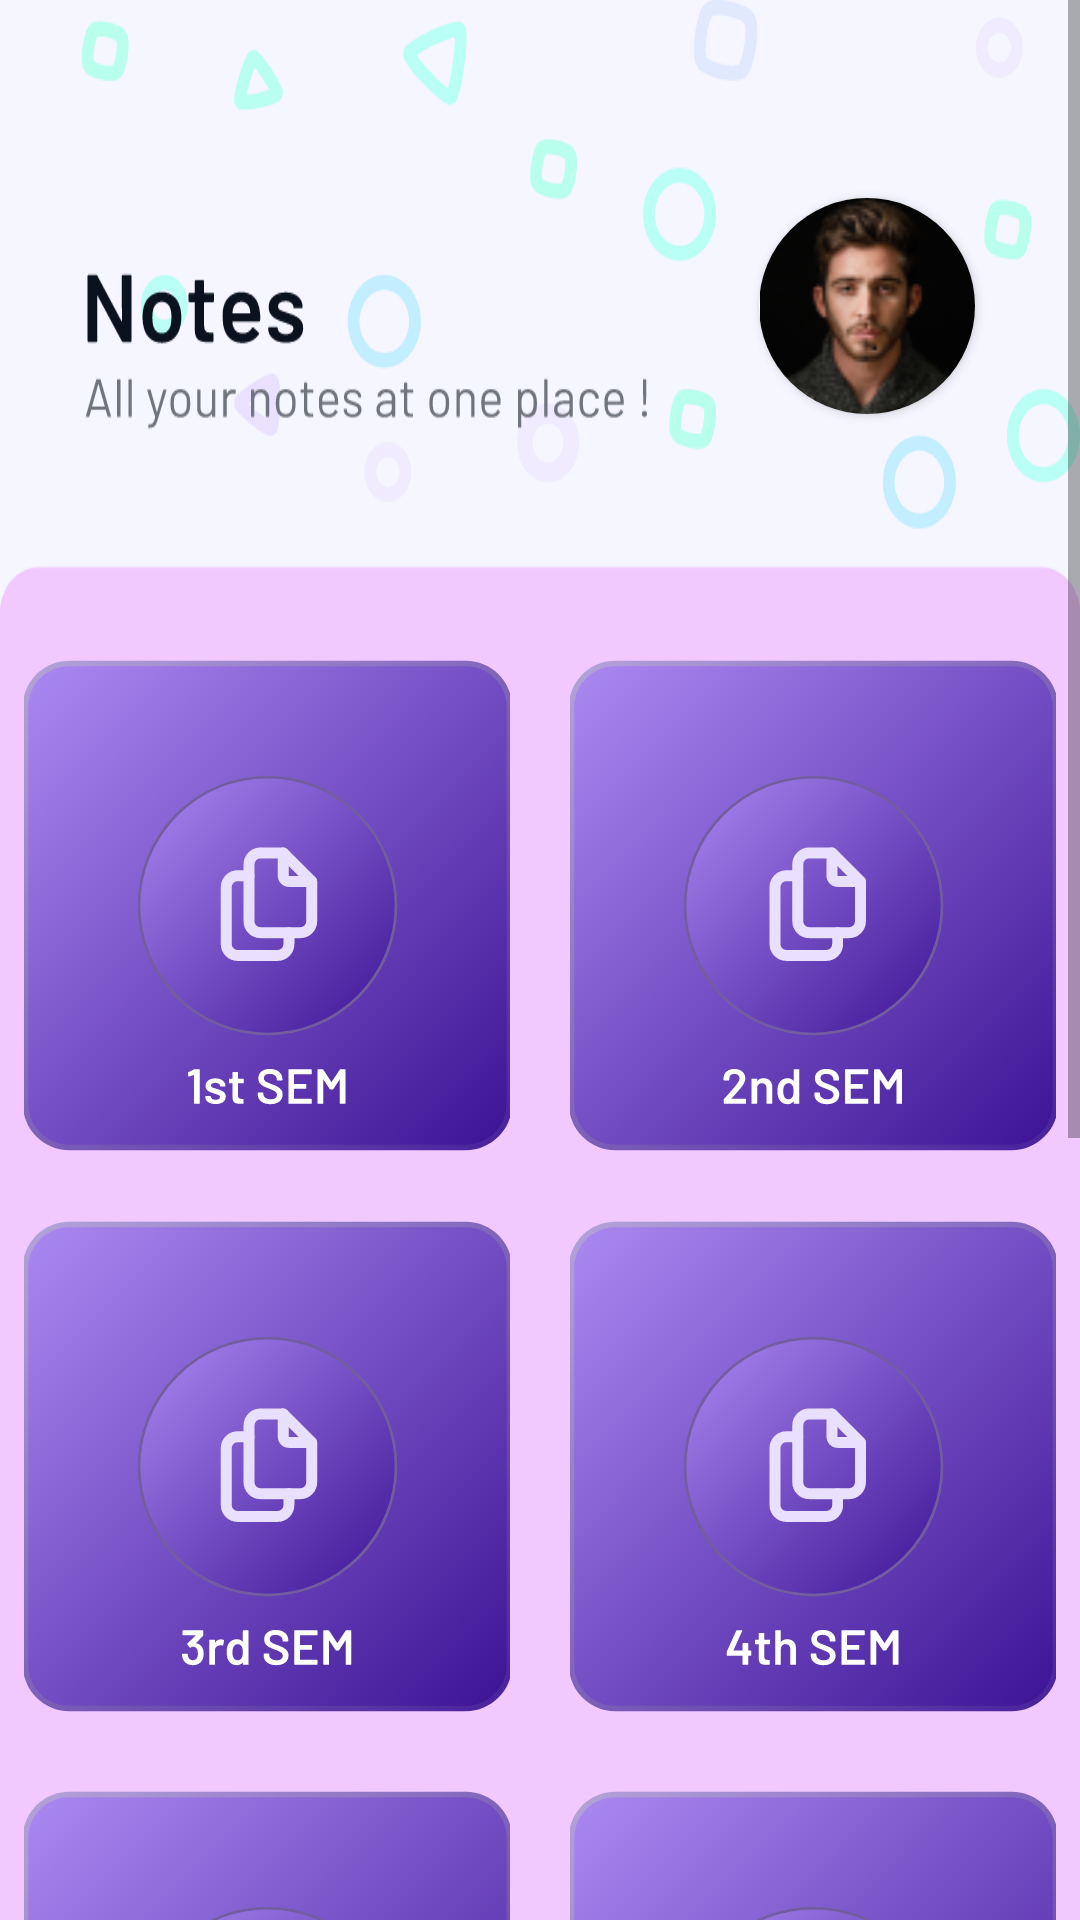

Point at icon controls on the screen. Image size 1080px x 1920px, points as (x=x, y=y).
men profile: (x=867, y=306)
